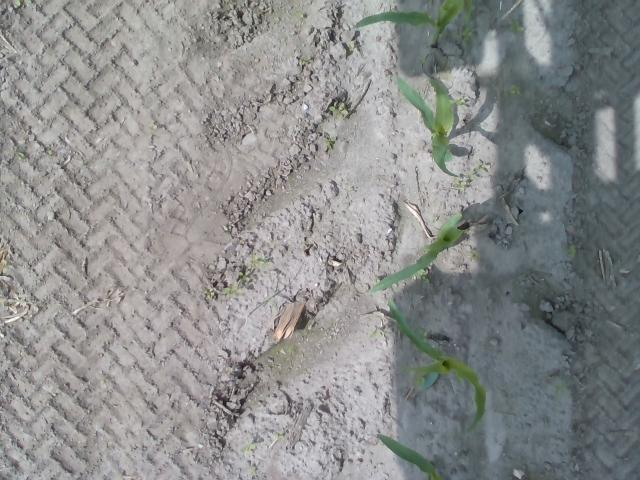Maize: (388, 300, 486, 434), (370, 211, 465, 293), (395, 73, 459, 178), (350, 0, 466, 50), (374, 431, 451, 480)
Weeds: (223, 279, 243, 299), (328, 102, 349, 119), (458, 24, 476, 40), (502, 84, 522, 97), (509, 20, 525, 32), (1, 259, 13, 274), (474, 162, 492, 172), (238, 270, 250, 284), (254, 254, 266, 266), (416, 269, 428, 281), (566, 244, 576, 258), (325, 135, 335, 149), (13, 0, 32, 7), (454, 179, 466, 190), (14, 150, 26, 161), (242, 444, 255, 454), (556, 382, 566, 394), (369, 328, 384, 336), (279, 346, 294, 354), (416, 375, 427, 385), (203, 290, 214, 300), (348, 41, 356, 51), (419, 55, 426, 64), (456, 99, 464, 106), (276, 432, 283, 438)
